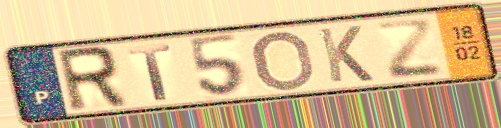5: (184, 31, 250, 100)
K: (315, 24, 377, 85)
O: (251, 29, 319, 93)
R: (53, 44, 132, 115)
T: (125, 42, 175, 103)
Z: (373, 18, 446, 81)
